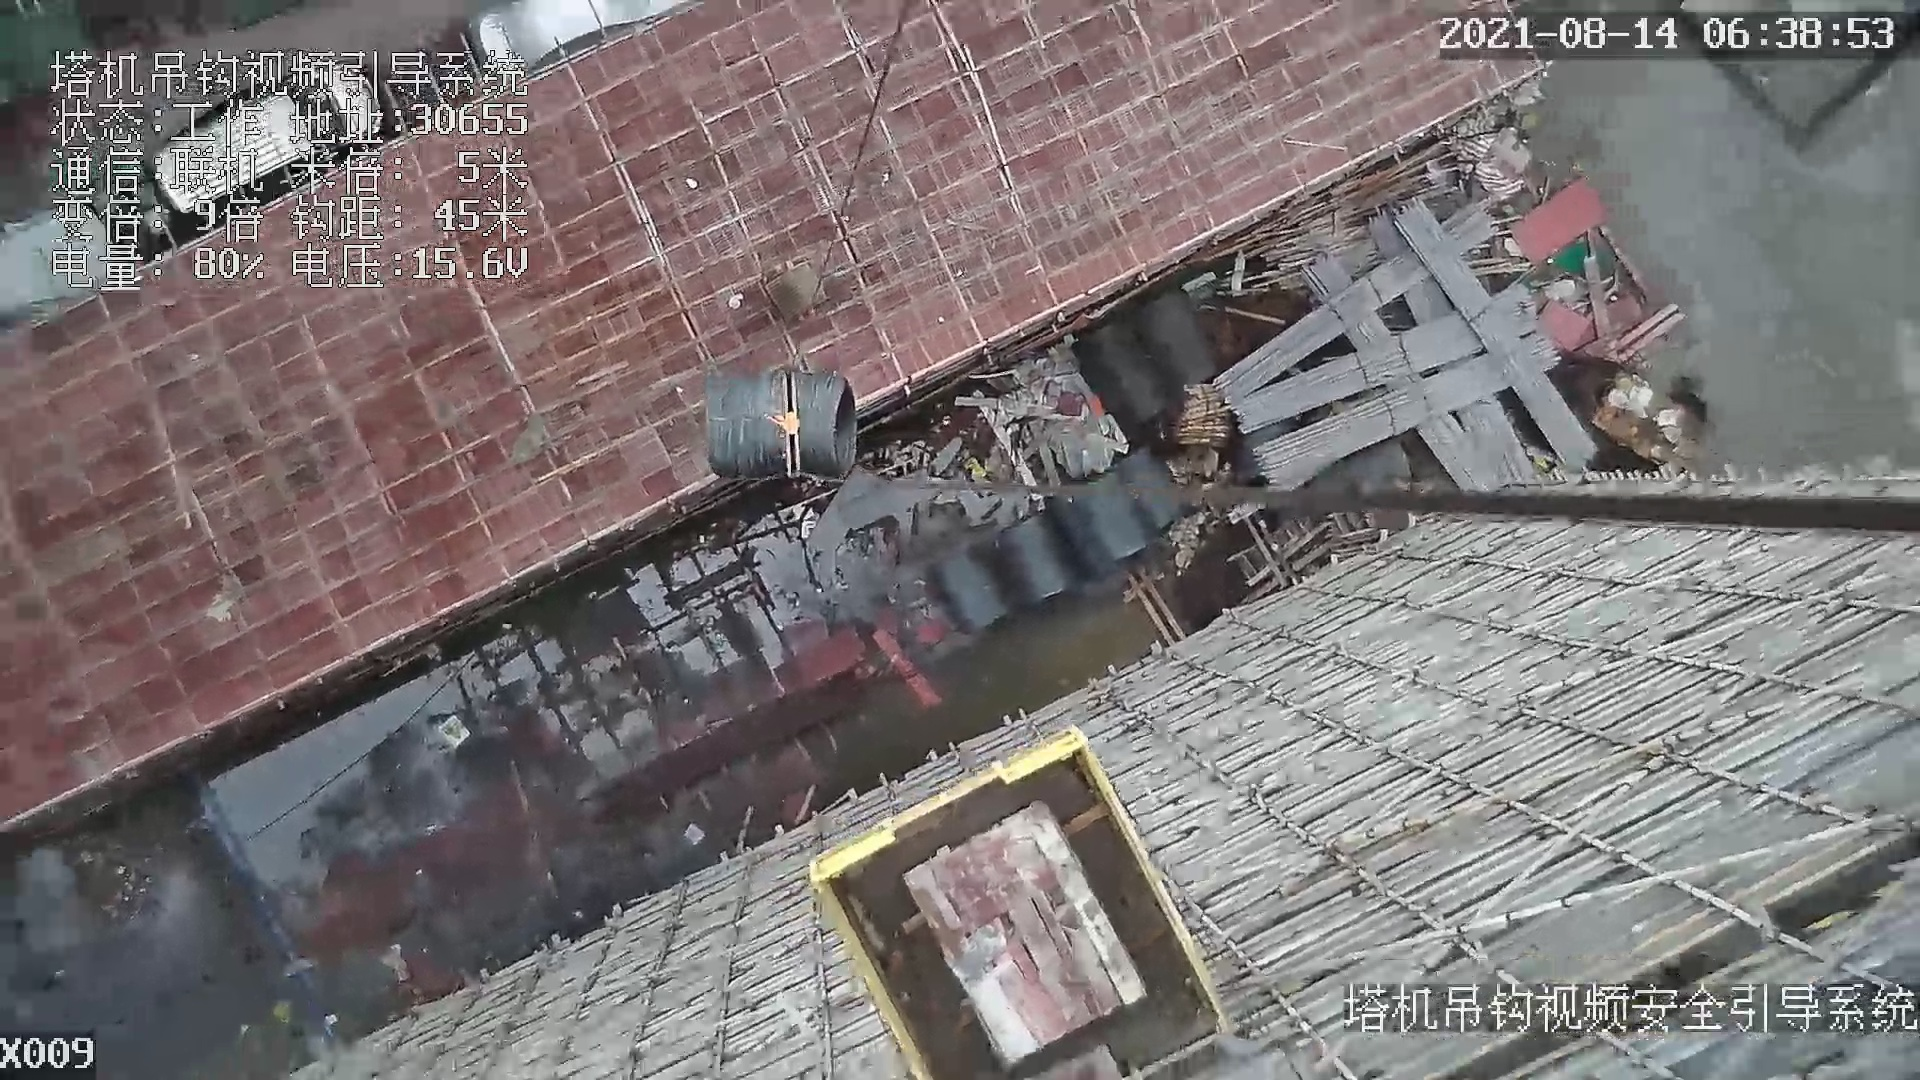hook: (765, 372, 806, 483)
